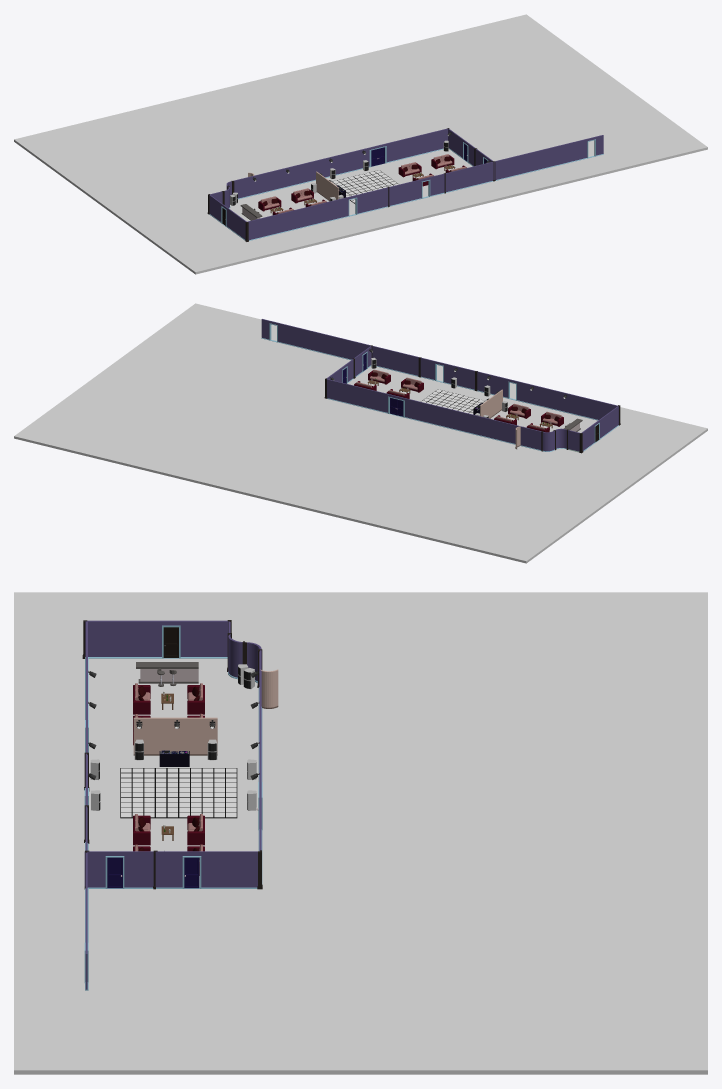
Rendered from Export_Stanza_1.fbx.
3 views of the same model, one above another, from view 1: azimuth 30°, elevation 25°; view 2: azimuth 150°, elevation 25°; view 3: azimuth 270°, elevation 25° (orthographic). The views are drawn at different scales.
Visible parts, largest first — view 1: Cube, Wall1_2.005, Wall1_2.029, Wall1_2.027, Wall1_2.028, Wall1_2.006, Wall1_2.002, Wall1_1.001; view 2: Cube, Wall1_2.005, Wall1_2.029, Wall1_2.027, Wall1_2.028, Wall1_2.006; view 3: Cube, Wall1_2.006, Wall1_2.002, Wall1_1.001, Wall1_2.003, Bar.002, Wall1_2.005.
Part boxes in pixels (box(x1,y1,x2,y2)): Cube: box(14, 14, 707, 274); Wall1_2.005: box(233, 128, 447, 199); Wall1_2.029: box(445, 135, 603, 192); Wall1_2.027: box(246, 187, 388, 240); Wall1_2.028: box(389, 173, 444, 206); Wall1_2.006: box(209, 195, 246, 240); Wall1_2.002: box(448, 129, 474, 166); Wall1_1.001: box(316, 171, 338, 201); Cube: box(14, 303, 707, 563); Wall1_2.005: box(327, 379, 541, 450); Wall1_2.029: box(261, 319, 418, 376); Wall1_2.027: box(477, 371, 618, 423); Wall1_2.028: box(420, 357, 476, 390); Wall1_2.006: box(581, 406, 618, 451); Cube: box(14, 592, 707, 1074); Wall1_2.006: box(85, 620, 228, 658); Wall1_2.002: box(155, 851, 257, 888); Wall1_1.001: box(133, 717, 217, 755); Wall1_2.003: box(84, 851, 153, 888); Bar.002: box(136, 662, 198, 683); Wall1_2.005: box(258, 650, 262, 884).
Bounding box in the file's own units: 94066 × 3781 × 57707.
